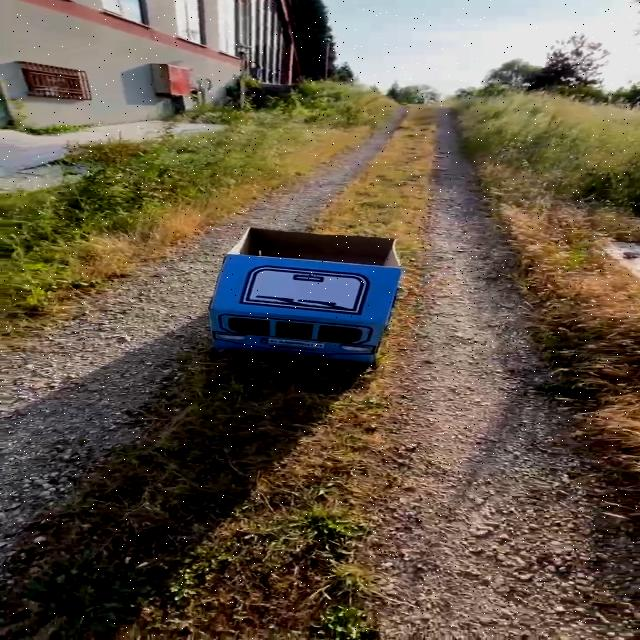blue_car: (159, 206, 447, 390)
